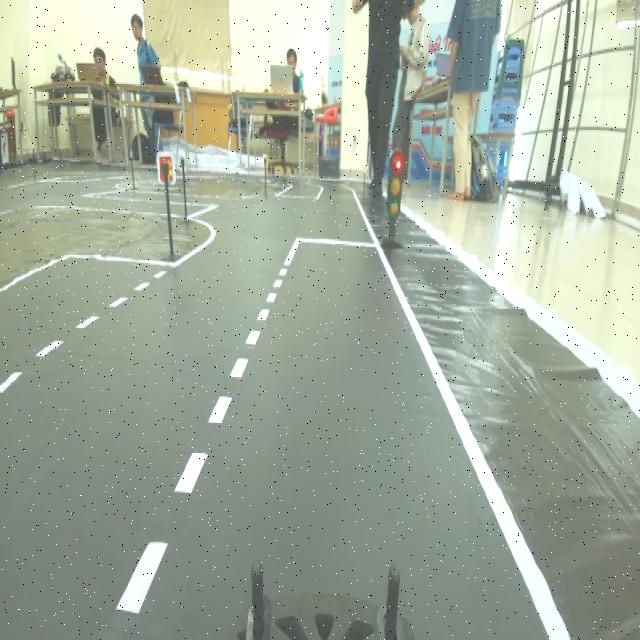trafficlight: (376, 134, 410, 260)
